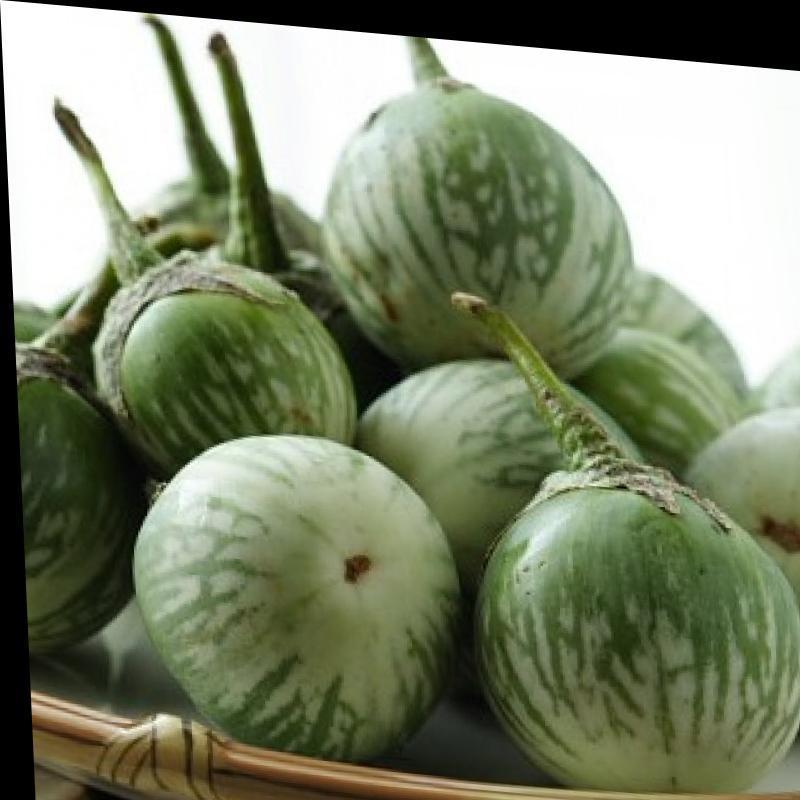eggplant: (60, 24, 356, 433)
